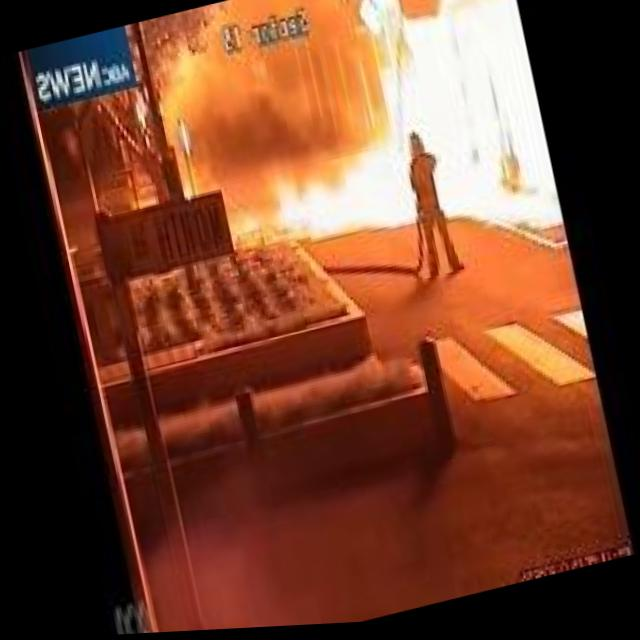fire: (195, 0, 567, 305)
